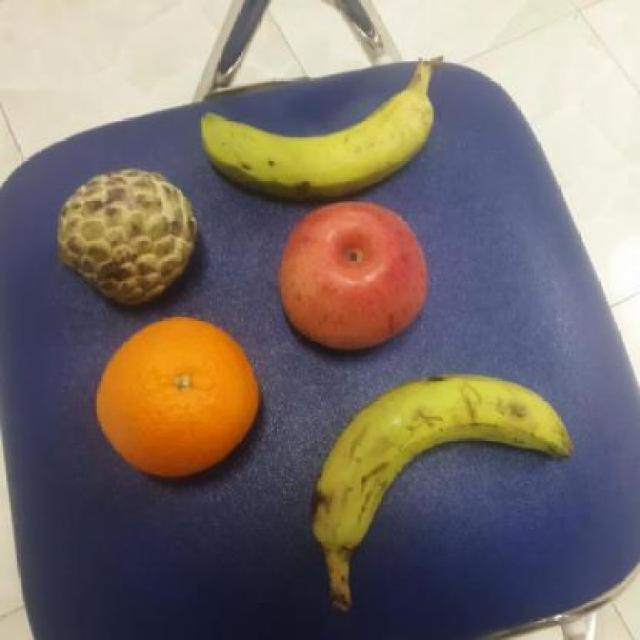apple: (277, 198, 428, 349)
banana: (309, 373, 574, 613), (200, 53, 448, 196)
oren: (95, 316, 260, 478)
sugar apple: (58, 169, 200, 306)
